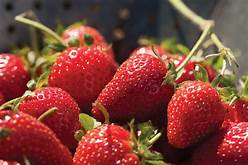Fresa: (89, 48, 176, 125), (160, 77, 229, 152)
